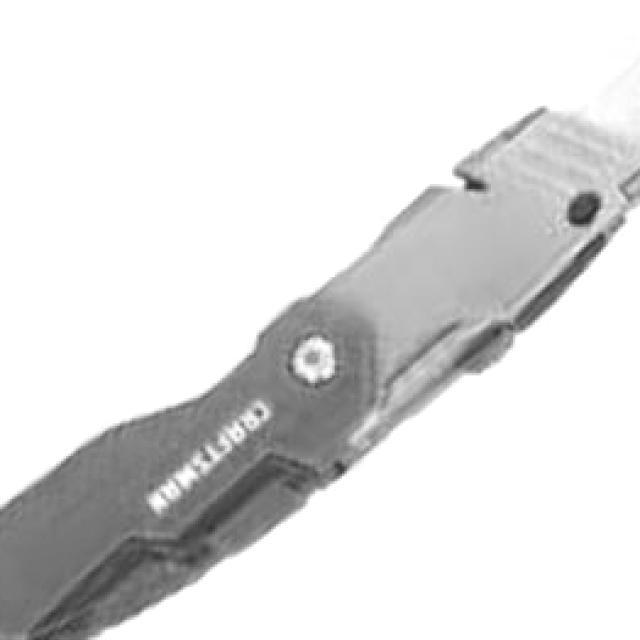estilete: (0, 60, 640, 640)
